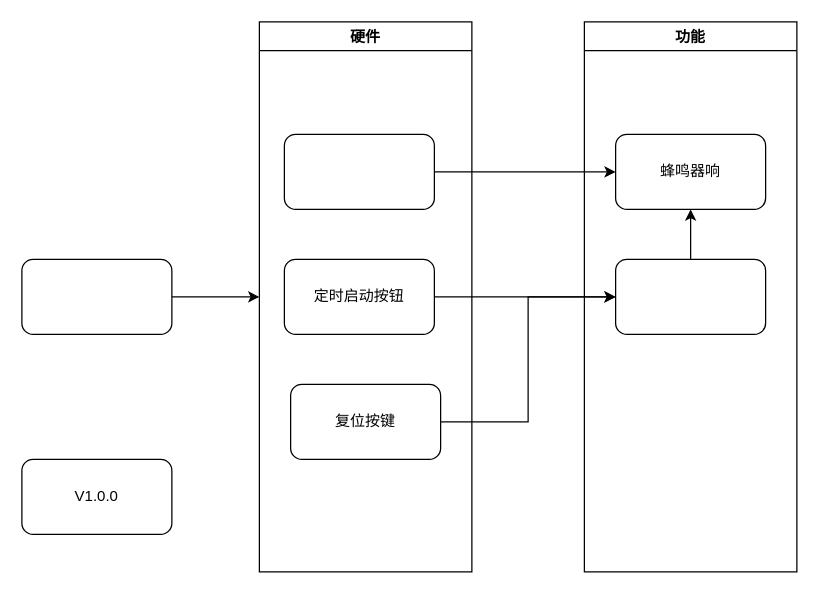
Image size: 819x594. Some labels were removed from this diagram. The centre of each missing label's shape, as x and y in pixels:
"45min+15min" belongs at pixel 690 296.
"Autonomic_X1" belongs at pixel 96 296.
"蜂鸣器" belongs at pixel 358 171.
